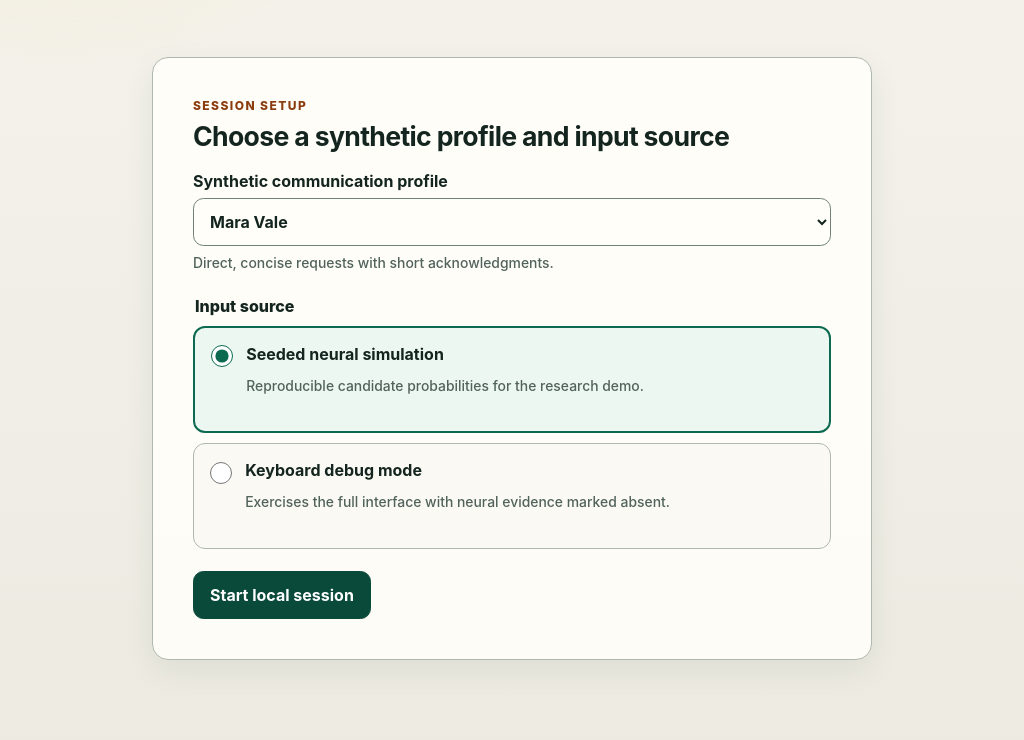
App › requires enhanced candidate confirmation and exact-text final confirmation
The width and height of the screenshot is (1024, 740).
(page scrolled)
Click the button "Start local session": {"x": 282, "y": 595} top-left (193, 571), bottom-right (371, 619)
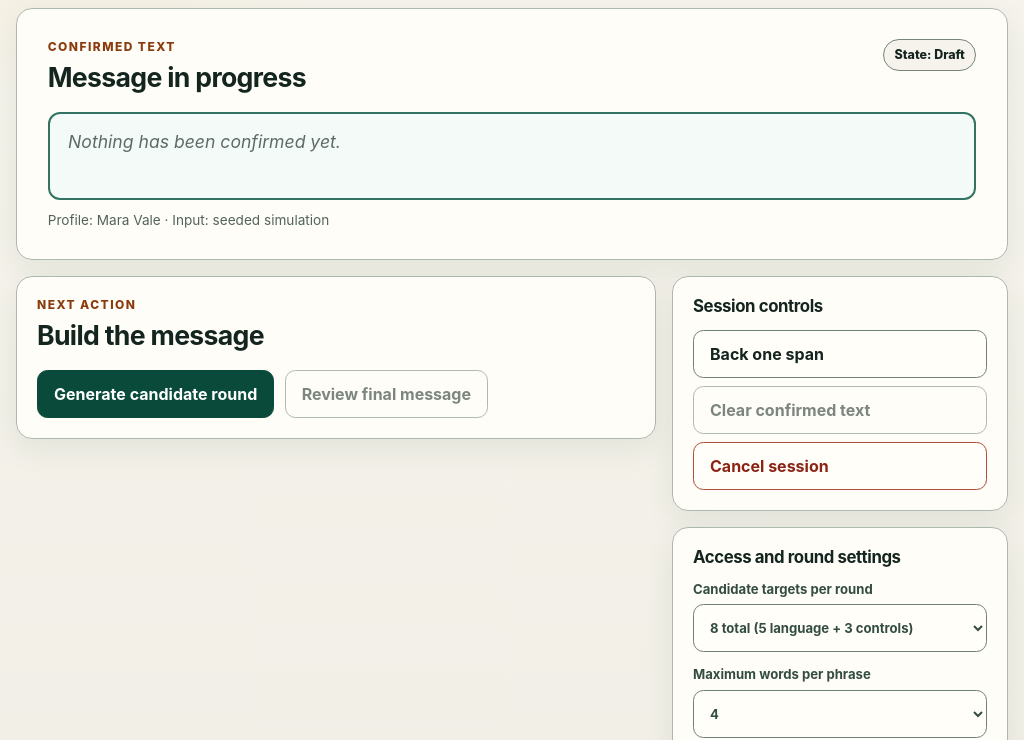
Expected: the heading "Message in progress" is shown, top-left (48, 63), bottom-right (306, 92)
Click the button "Generate candidate round": {"x": 156, "y": 394} top-left (37, 370), bottom-right (274, 418)
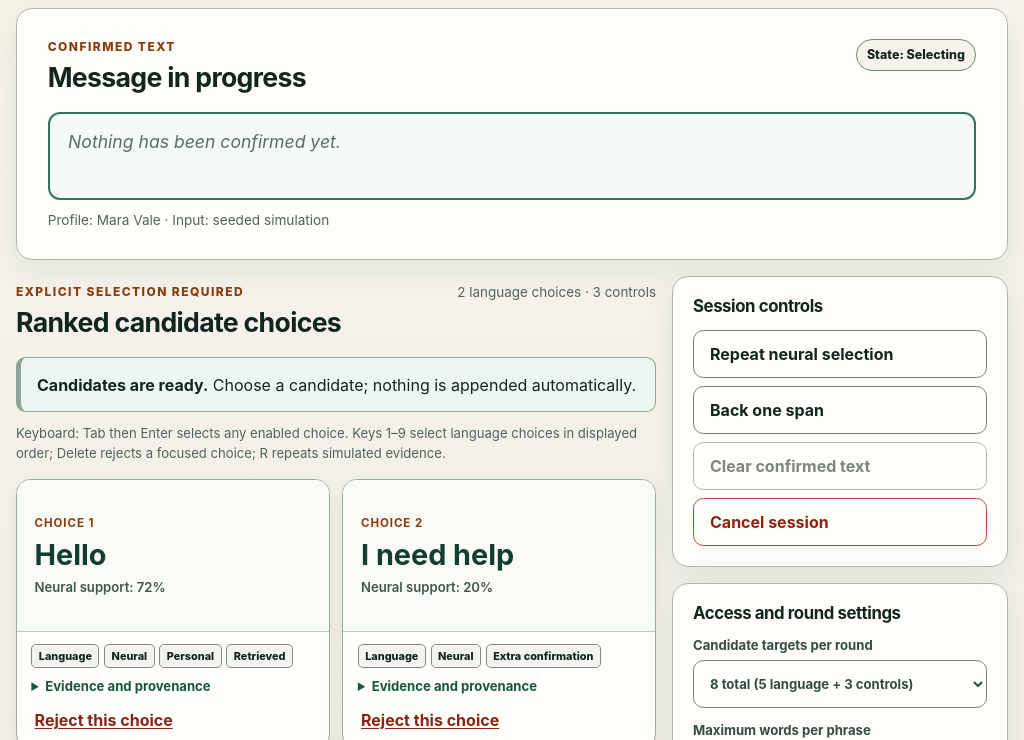
Expected: the button "Choice 2 I need help Neural support: 20%" is shown
Click the button "Choice 2 I need help Neural support: 20%": {"x": 499, "y": 556} top-left (343, 480), bottom-right (655, 632)
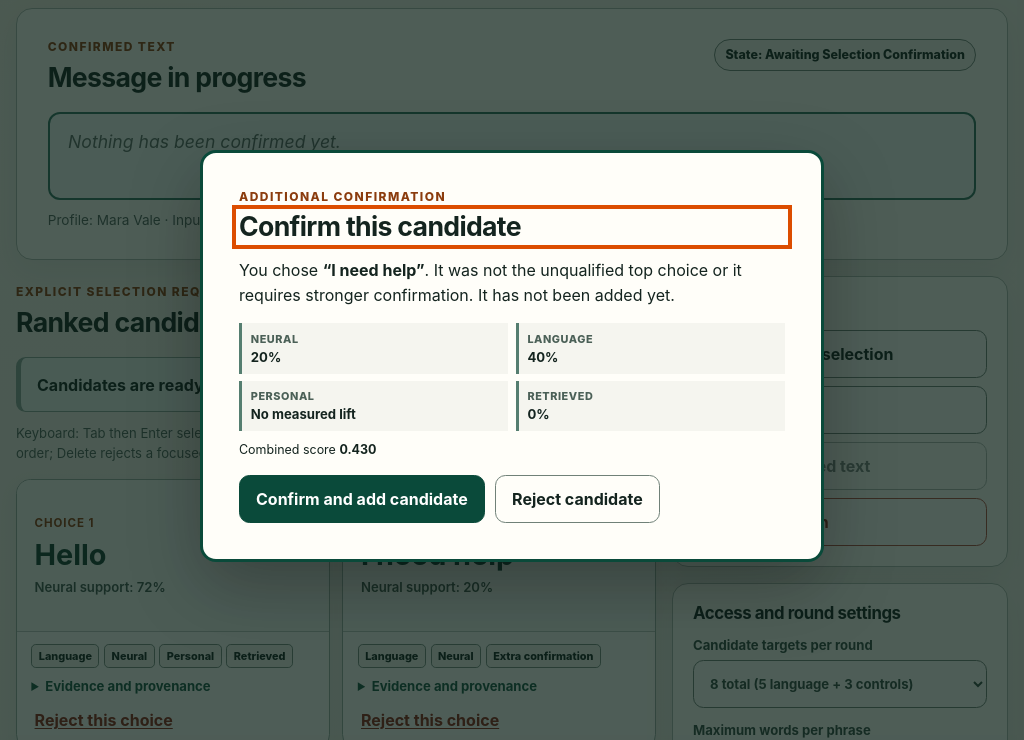
Expected: the dialog "Confirm this candidate" shows "It has not been added yet", top-left (239, 260), bottom-right (742, 305)
Click the button "Confirm and add candidate": {"x": 362, "y": 499} top-left (239, 475), bottom-right (485, 523)
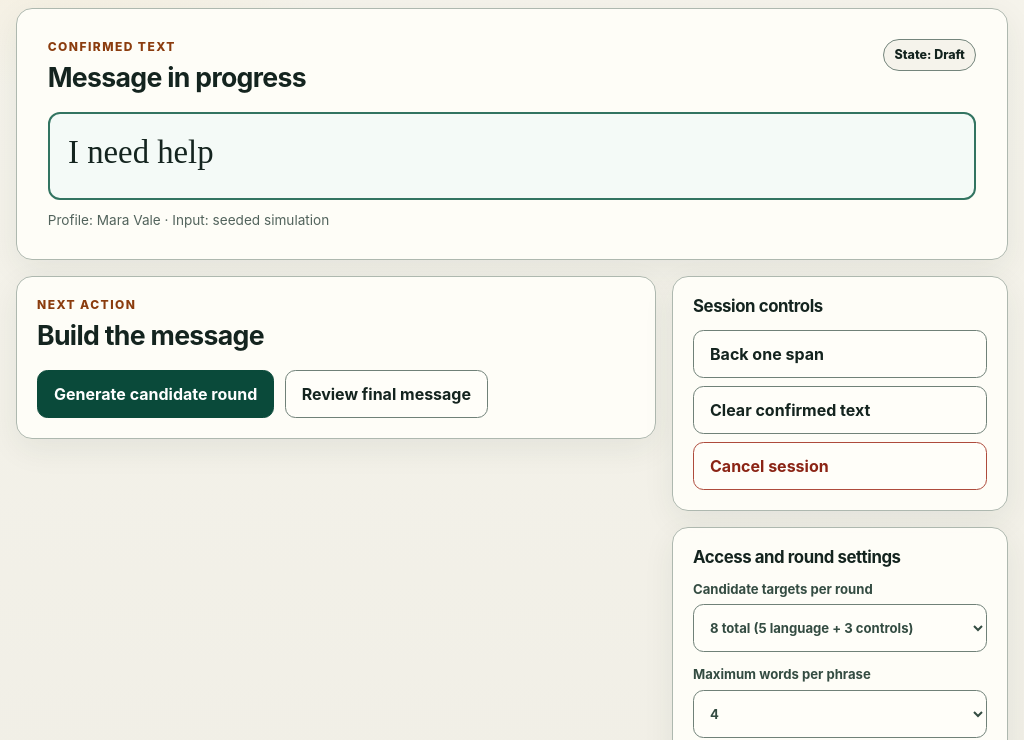
Expected: the text "I need help" is shown, top-left (68, 134), bottom-right (214, 170)
Click the button "Review final message": {"x": 386, "y": 394} top-left (285, 370), bottom-right (488, 418)
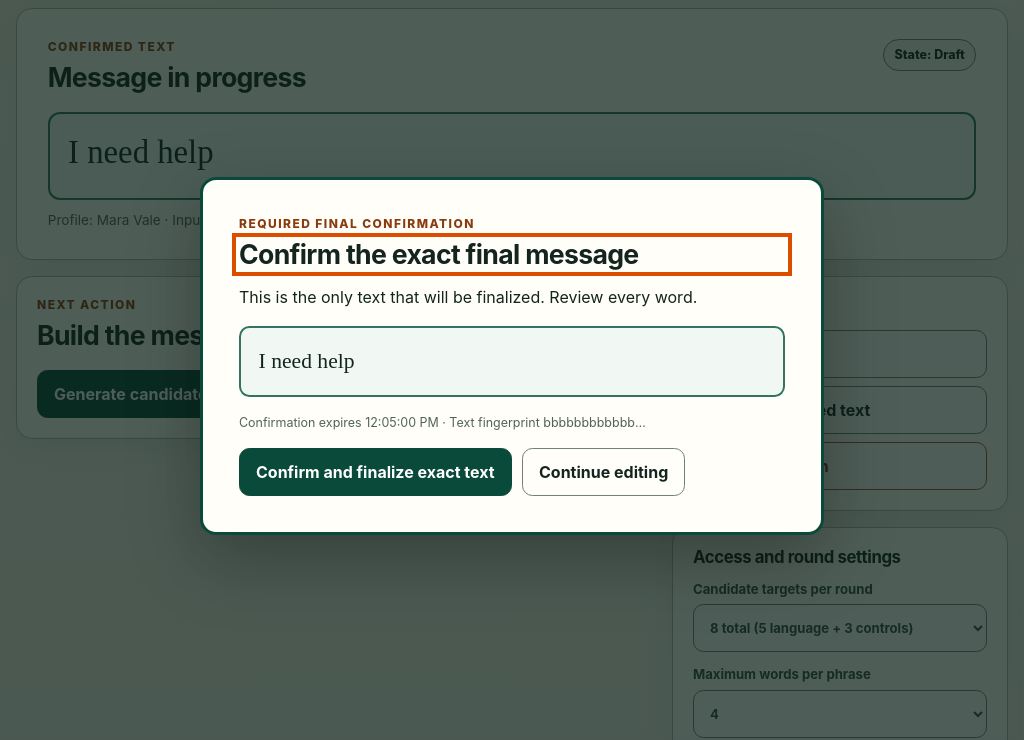
Expected: the dialog "Confirm the exact final message" shows "I need help", top-left (259, 349), bottom-right (354, 373)
Click the button "Confirm and finalize exact text": {"x": 375, "y": 472} top-left (239, 448), bottom-right (512, 496)
(page scrolled)
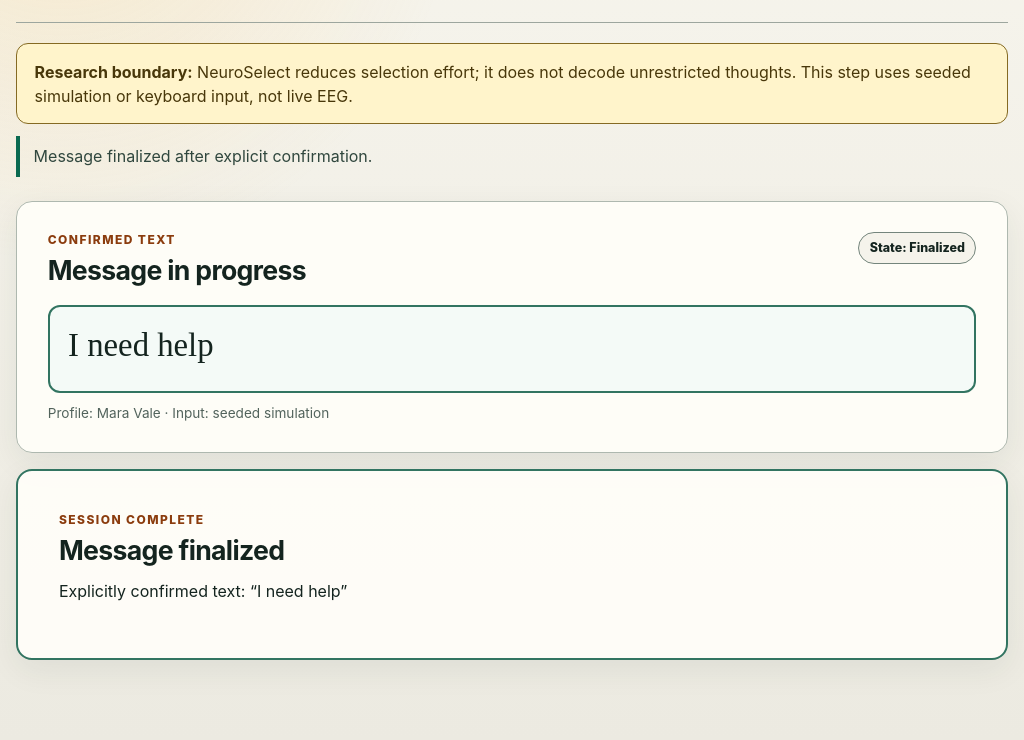
Expected: the heading "Message finalized" is shown, top-left (59, 534), bottom-right (284, 566)
